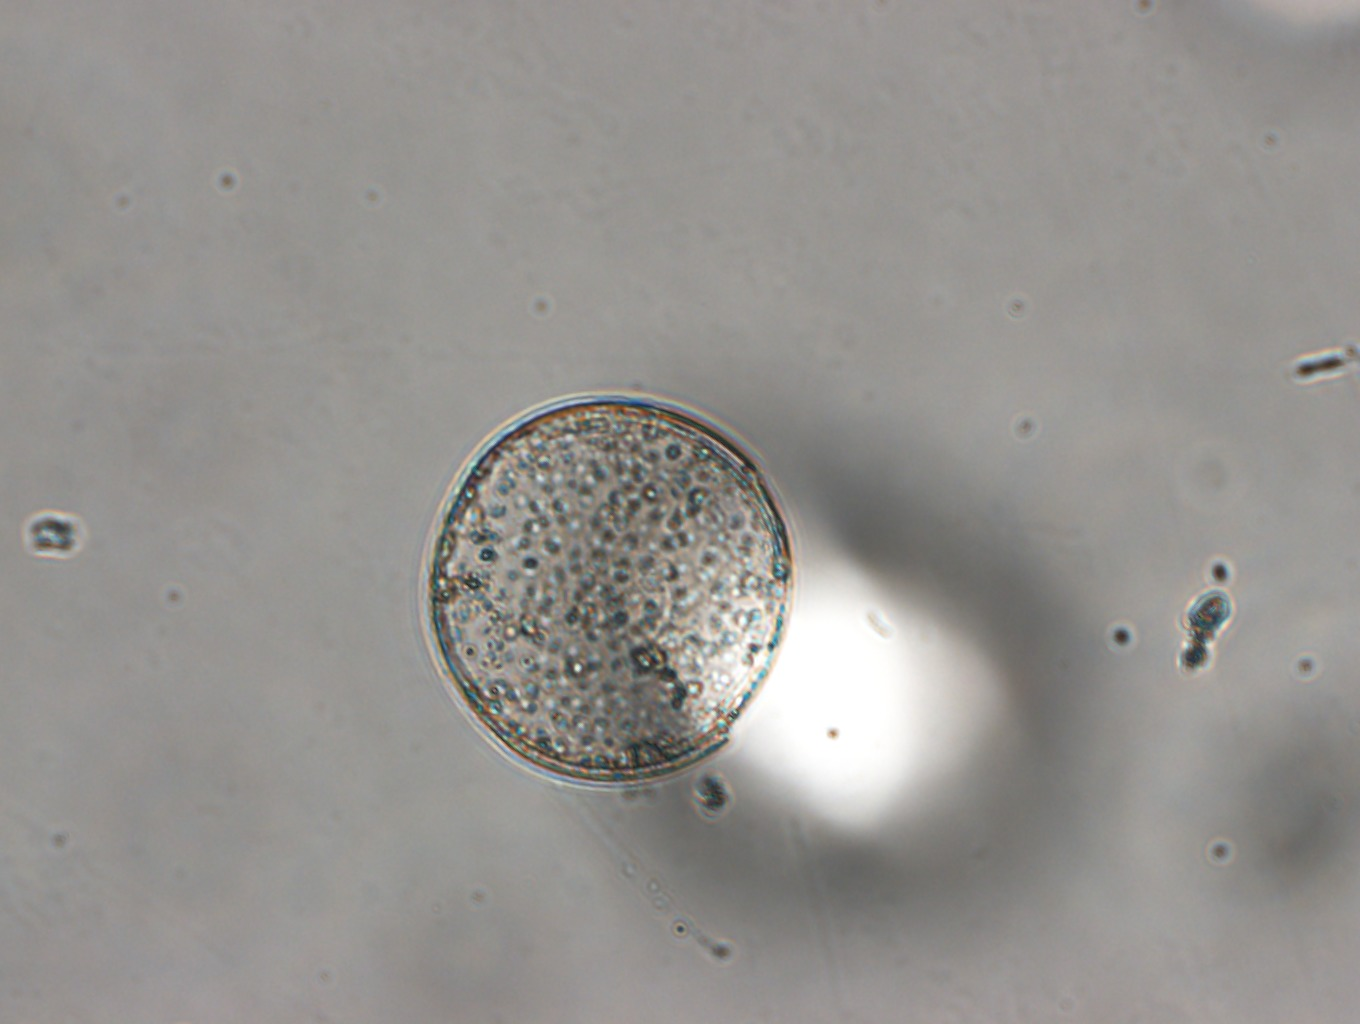coscinodiscus: (413, 392, 802, 792)
